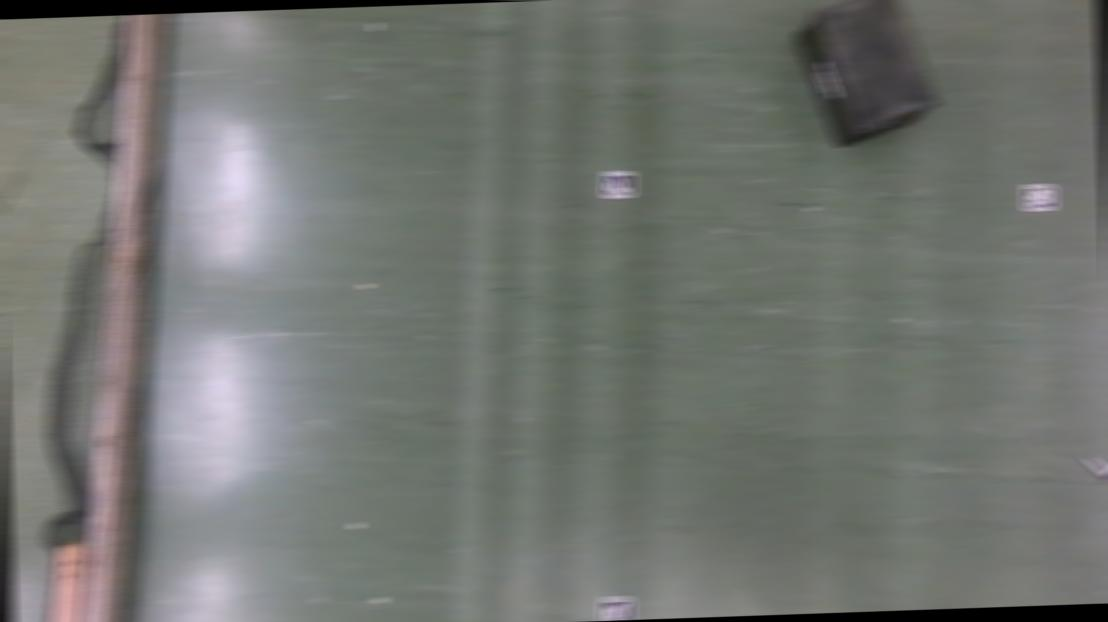probes: (1081, 452, 1108, 488)
rako: (790, 0, 942, 150)
